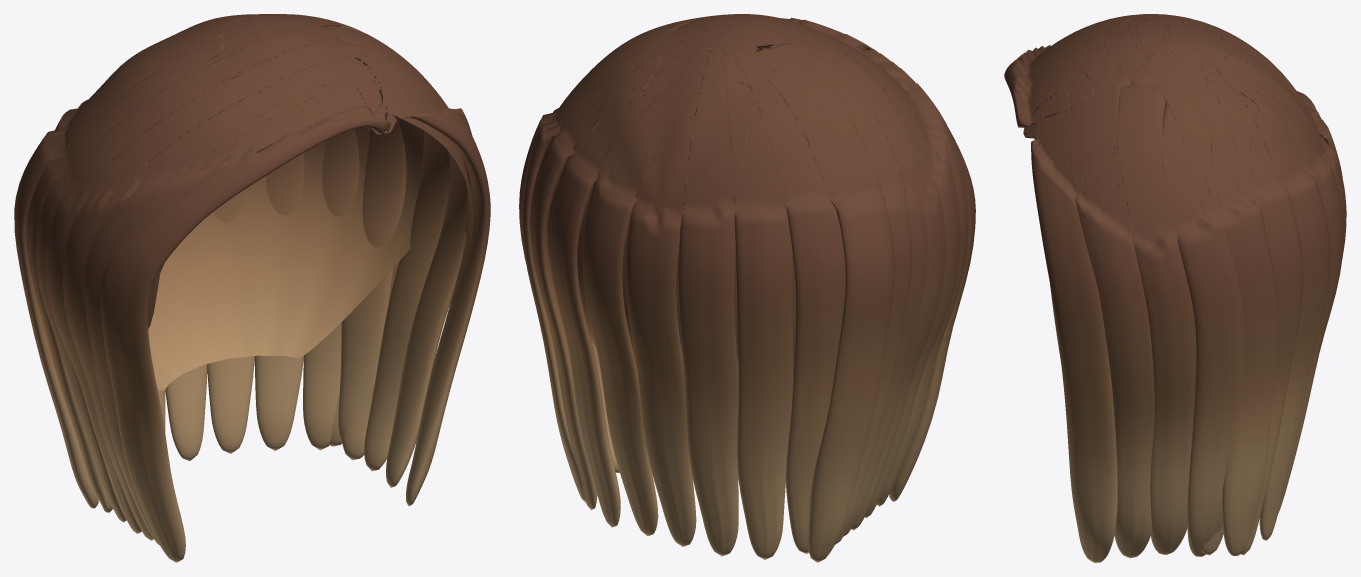
File: Feminine-straight-headband261-hair-ombre.glb
The picture shows the model from 3 angles, left to right: view 1: azimuth 30°, elevation 25°; view 2: azimuth 150°, elevation 25°; view 3: azimuth 270°, elevation 25°; orthographic projection. The views are drawn at different scales.
Visible parts, largest first — view 1: 226 hair / Hair / sculpted 0.001, 226 hair / Hair / sculpted 1.002, 226 hair / Hair / sculpted 2.001, 226 hair / Hair / sculpted 1.001; view 2: 226 hair / Hair / sculpted 0.001, 226 hair / Hair / sculpted 2.001, 226 hair / Hair / sculpted 1.002, 226 hair / Hair / sculpted 1.001; view 3: 226 hair / Hair / sculpted 1.002, 226 hair / Hair / sculpted 2.001, 226 hair / Hair / sculpted 0.001.
Part boxes in pixels (<box>): 226 hair / Hair / sculpted 0.001: <box>14,14,449,562</box>; 226 hair / Hair / sculpted 1.002: <box>35,14,490,545</box>; 226 hair / Hair / sculpted 2.001: <box>26,14,472,540</box>; 226 hair / Hair / sculpted 1.001: <box>147,117,472,390</box>; 226 hair / Hair / sculpted 0.001: <box>549,14,975,562</box>; 226 hair / Hair / sculpted 2.001: <box>521,14,960,553</box>; 226 hair / Hair / sculpted 1.002: <box>519,14,968,559</box>; 226 hair / Hair / sculpted 1.001: <box>548,168,796,376</box>; 226 hair / Hair / sculpted 1.002: <box>1020,14,1343,562</box>; 226 hair / Hair / sculpted 2.001: <box>1046,14,1346,558</box>; 226 hair / Hair / sculpted 0.001: <box>1004,14,1342,554</box>.
Size of the model in its own units: 1.02 by 1.17 by 0.7721.
